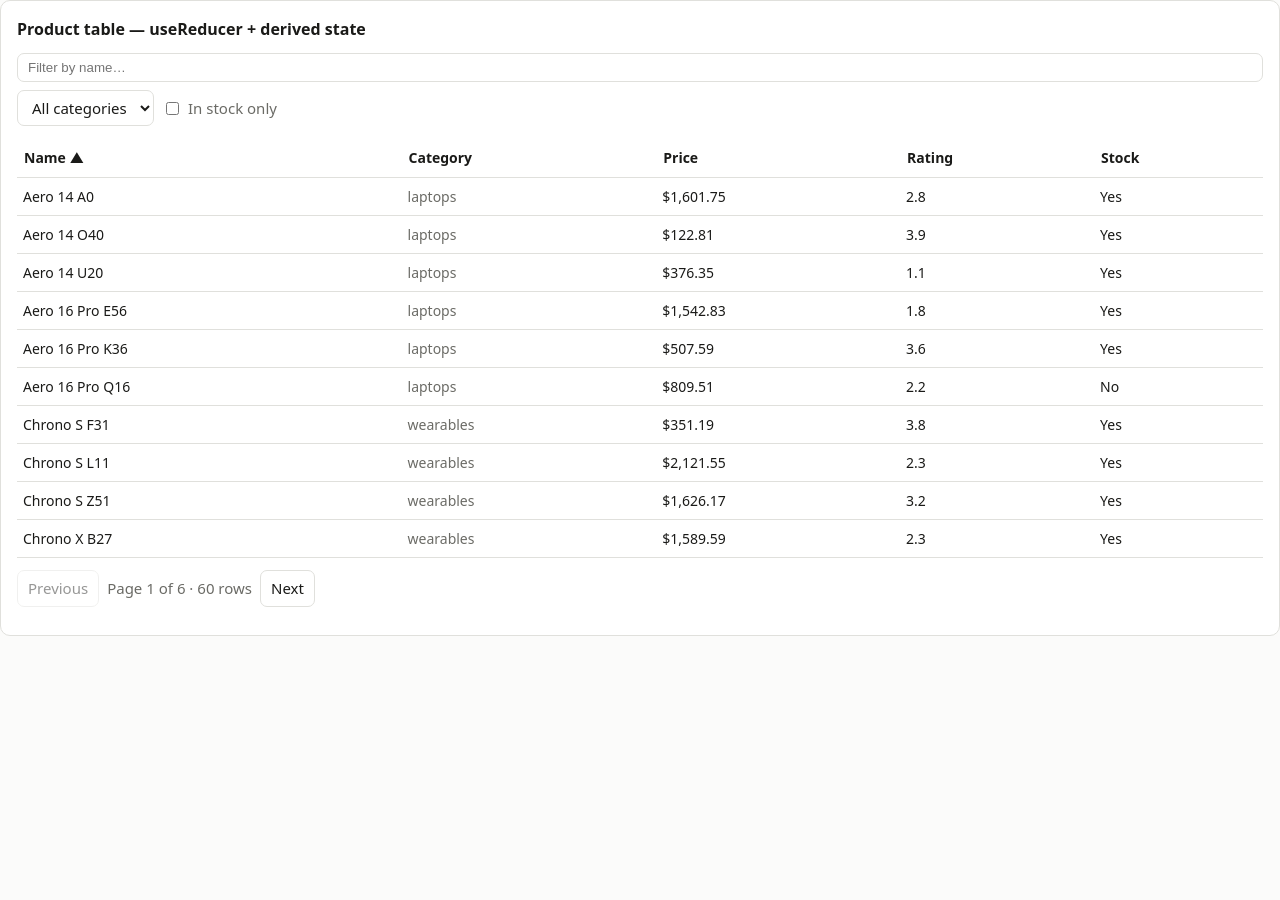
Scenario: ProductTable › resets to page 1 when the filter changes
Click the button "Next".
click(287, 588)  # box [260,570,315,606]
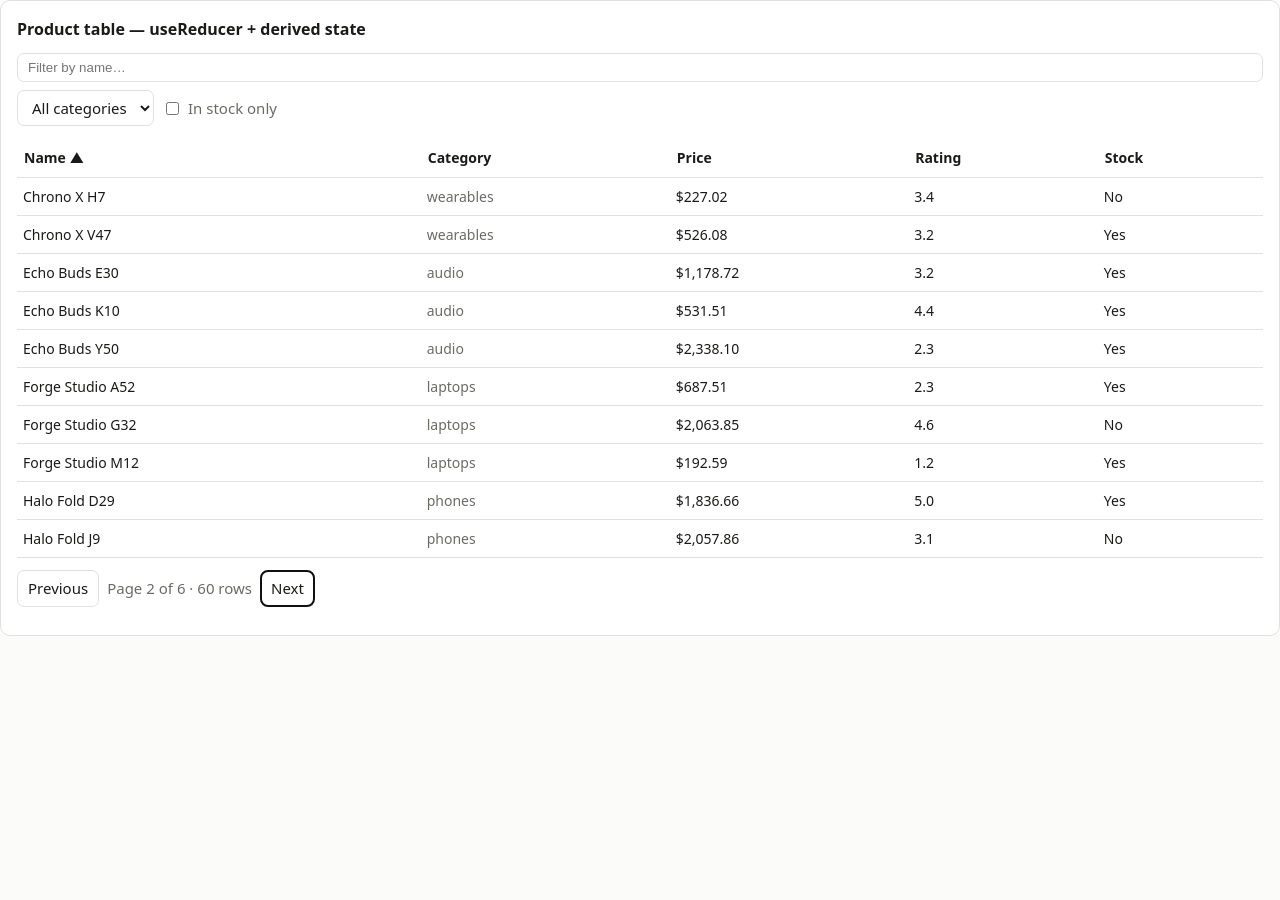
Now the text "Page 2 of 6 · 60 rows" is shown, box [107,577,252,600]
Type "nova" into the field labelled "Filter by name".
click(640, 68); type("nova")  # box [17,53,1263,82]
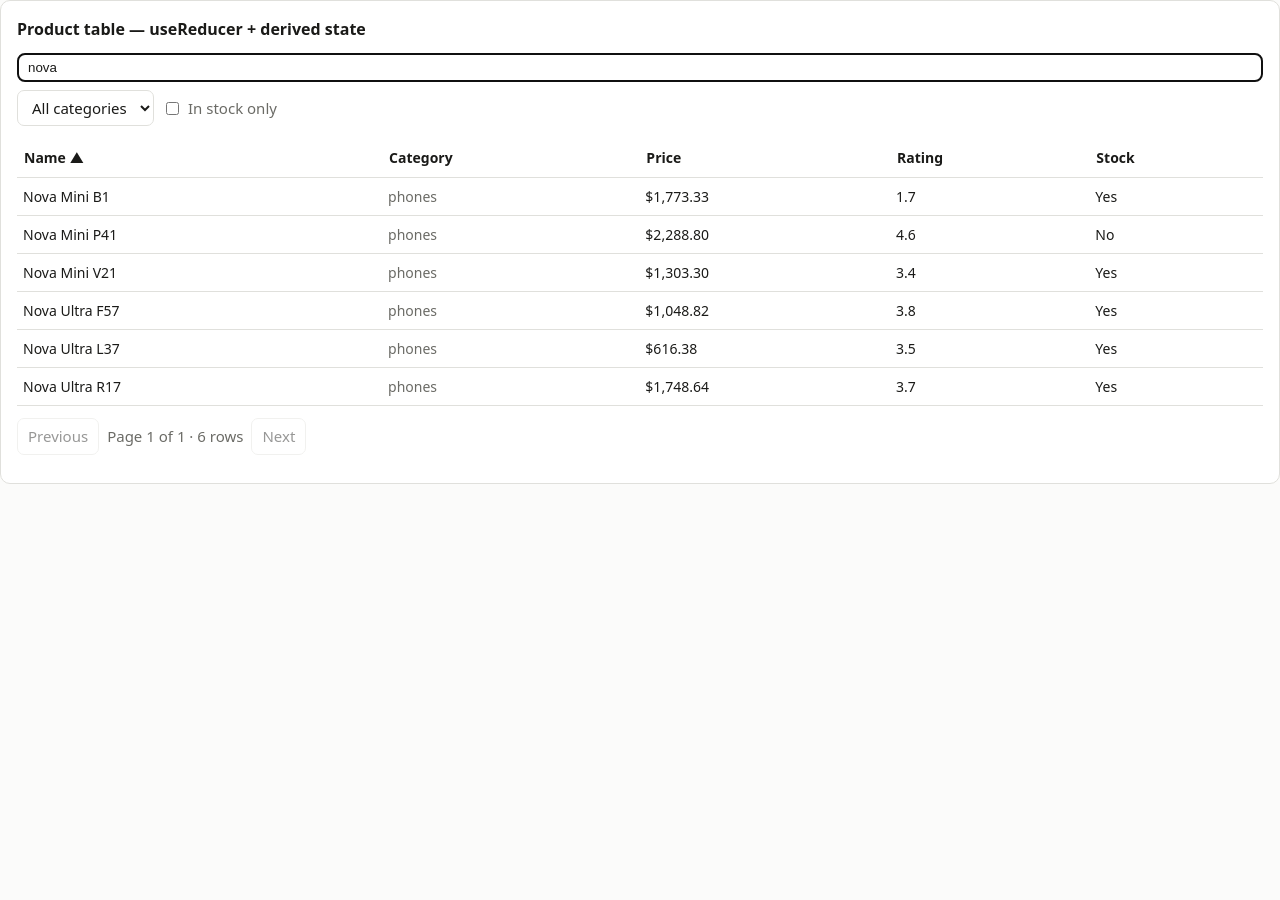
Now the text "Page 1 of 1 · 6 rows" is shown, box [107,425,244,448]
